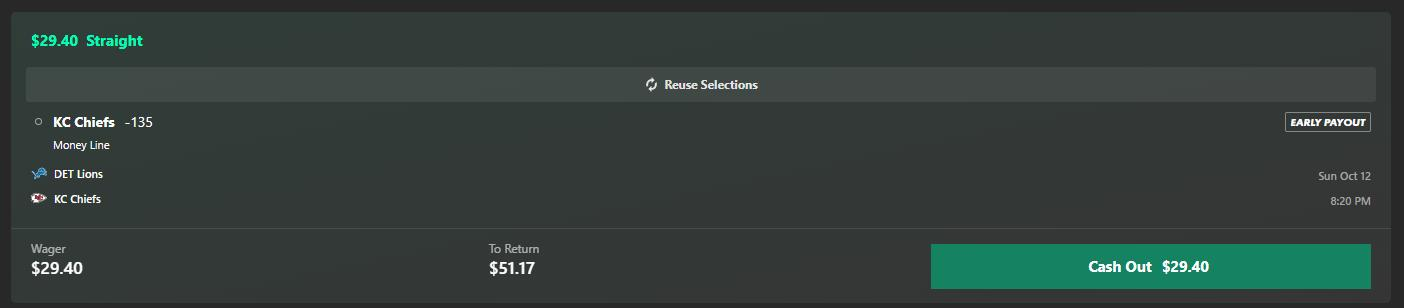game: (52, 167, 106, 209)
odds: (122, 113, 158, 131)
payout: (487, 259, 538, 279)
wager: (27, 258, 87, 281)
